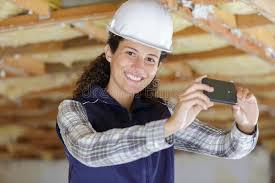helmet: (106, 0, 174, 51)
